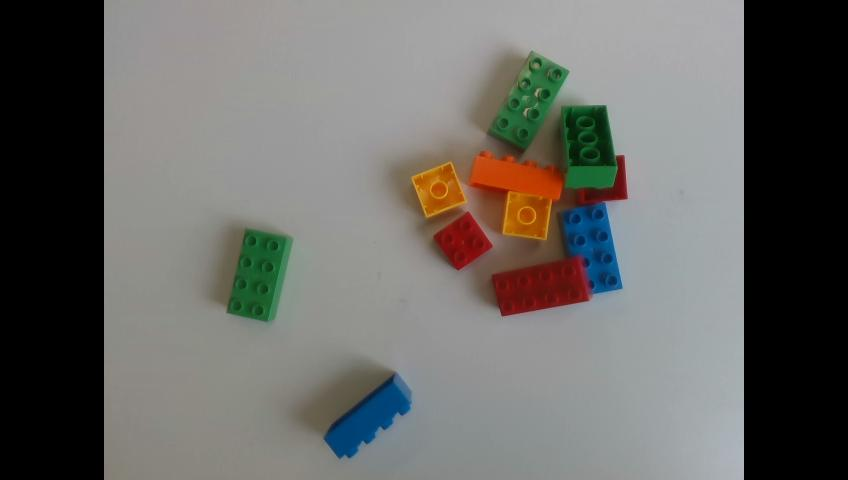2x2_red: (433, 212, 493, 272), (579, 157, 629, 206)
2x2_yellow: (411, 161, 468, 217), (504, 190, 553, 241)
4x2_blue: (325, 373, 413, 461), (555, 202, 624, 294)
4x2_green: (487, 52, 571, 152), (225, 229, 295, 322), (561, 105, 618, 189)
4x2_orange: (467, 149, 567, 201)
4x2_red: (492, 257, 593, 315)
